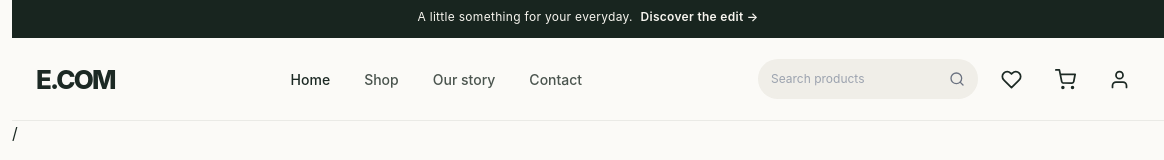
it: promo banner navigates to the product catalog
What coordinates should you click on to do the following:
click the link "Discover the edit"
I would click on:
 (588, 19)
Its box is [12,0,1163,38].
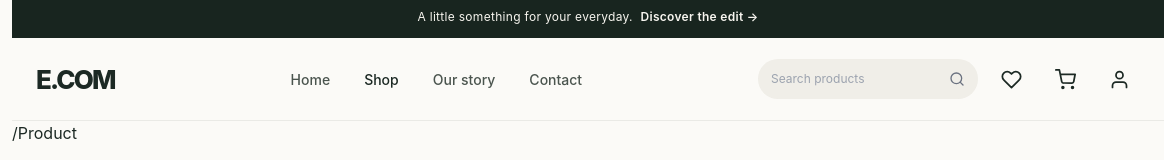
Check: the text with test id "current-path" reads "/Product", box [12,123,77,143]
